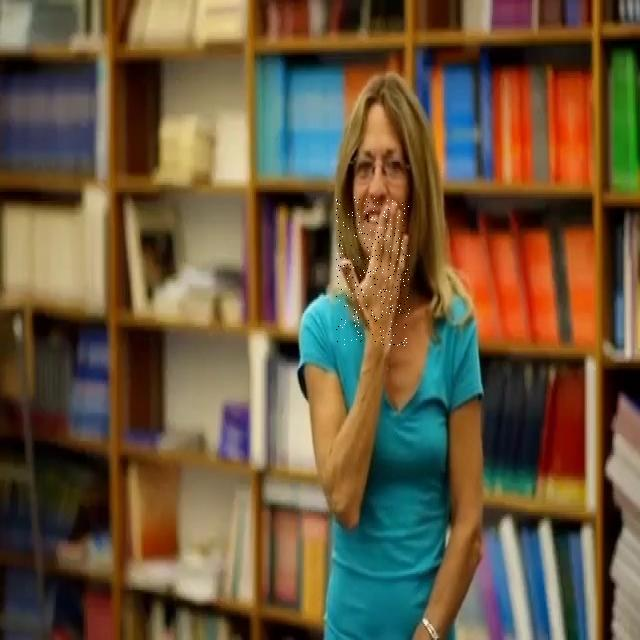napkin: (336, 196, 410, 346)
